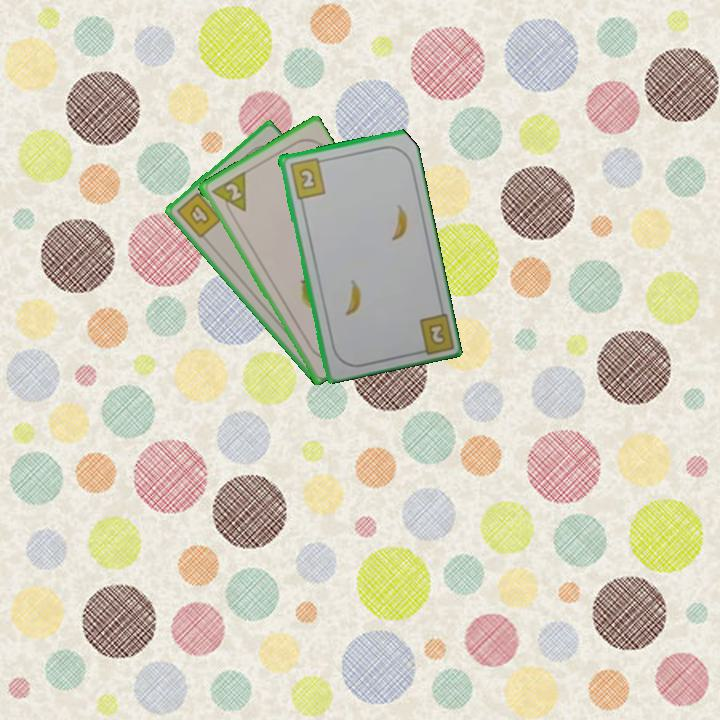2b: (286, 154, 328, 201), (425, 319, 448, 348)
2p: (207, 169, 249, 220)
4b: (173, 186, 224, 241)
